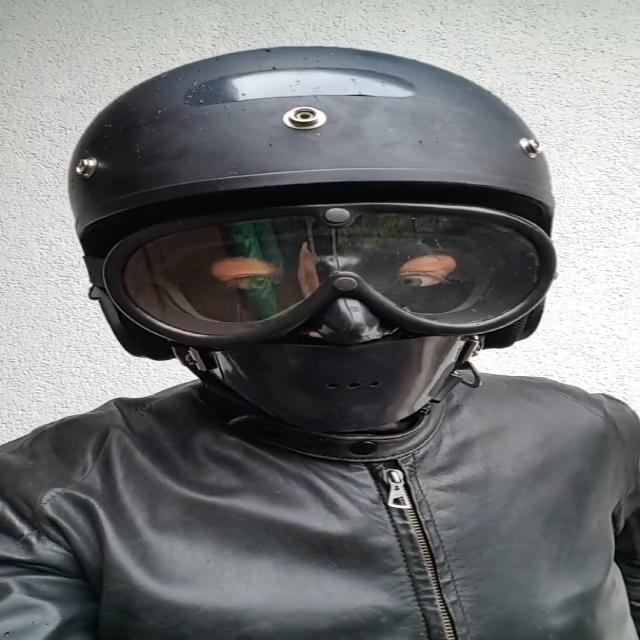Helmet_Wearer: (51, 46, 593, 443)
Jacket_Wearer: (2, 320, 640, 640)
Person: (0, 44, 640, 625)
